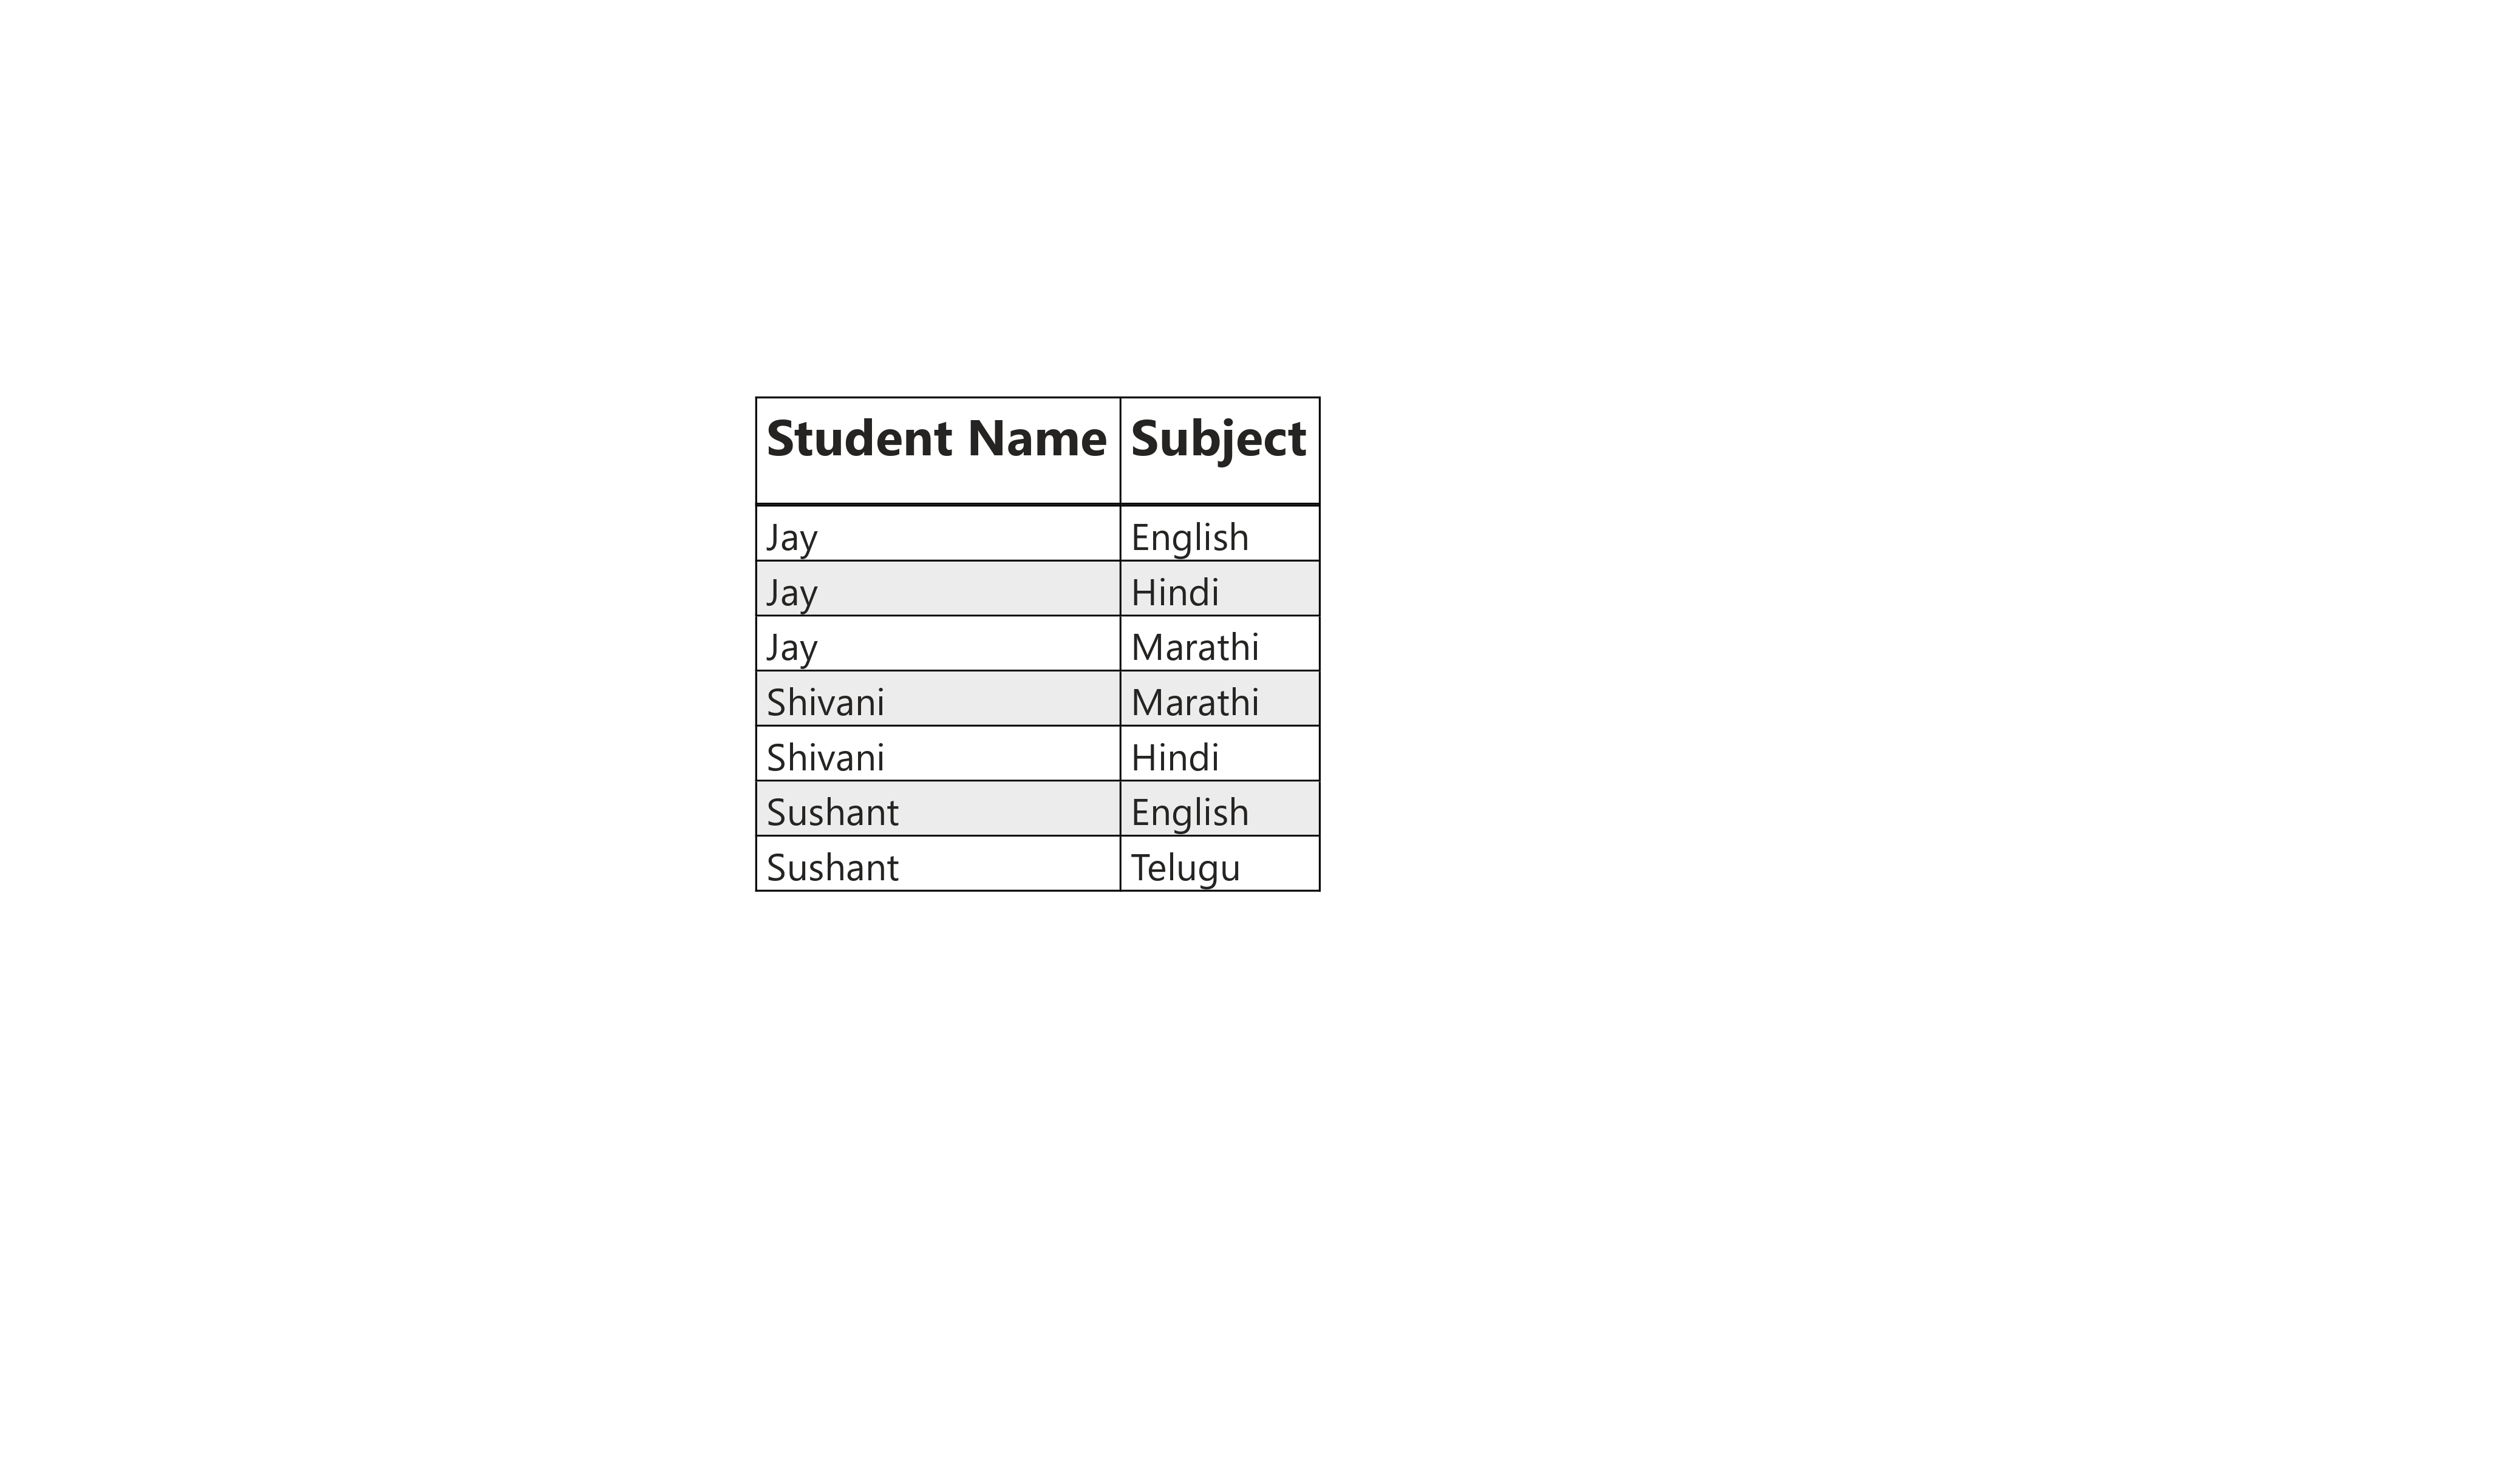

What the dashboard file says about the page in this screenshot:
{"tool":"powerbi","page":{"name":"Student Subject Details","canvas":[1280,720],"ordinal":14},"visuals":[{"type":"tableEx","fields":{"Values":["Sheet1.Student Name","Sheet1.Subject"]},"box":[367.8,179.8,374.6,279.9],"z":0}]}

Visuals, with their boxes on the page's 1280x720 design canvas (x1, y1, x2, y2). These are canvas units, not pixel positions in the 2520x1457 screenshot, which may show the page scaled, cropped or inside an application window:
tableEx - Sheet1.Student Name x Sheet1.Subject: <region>368, 180, 742, 460</region>
